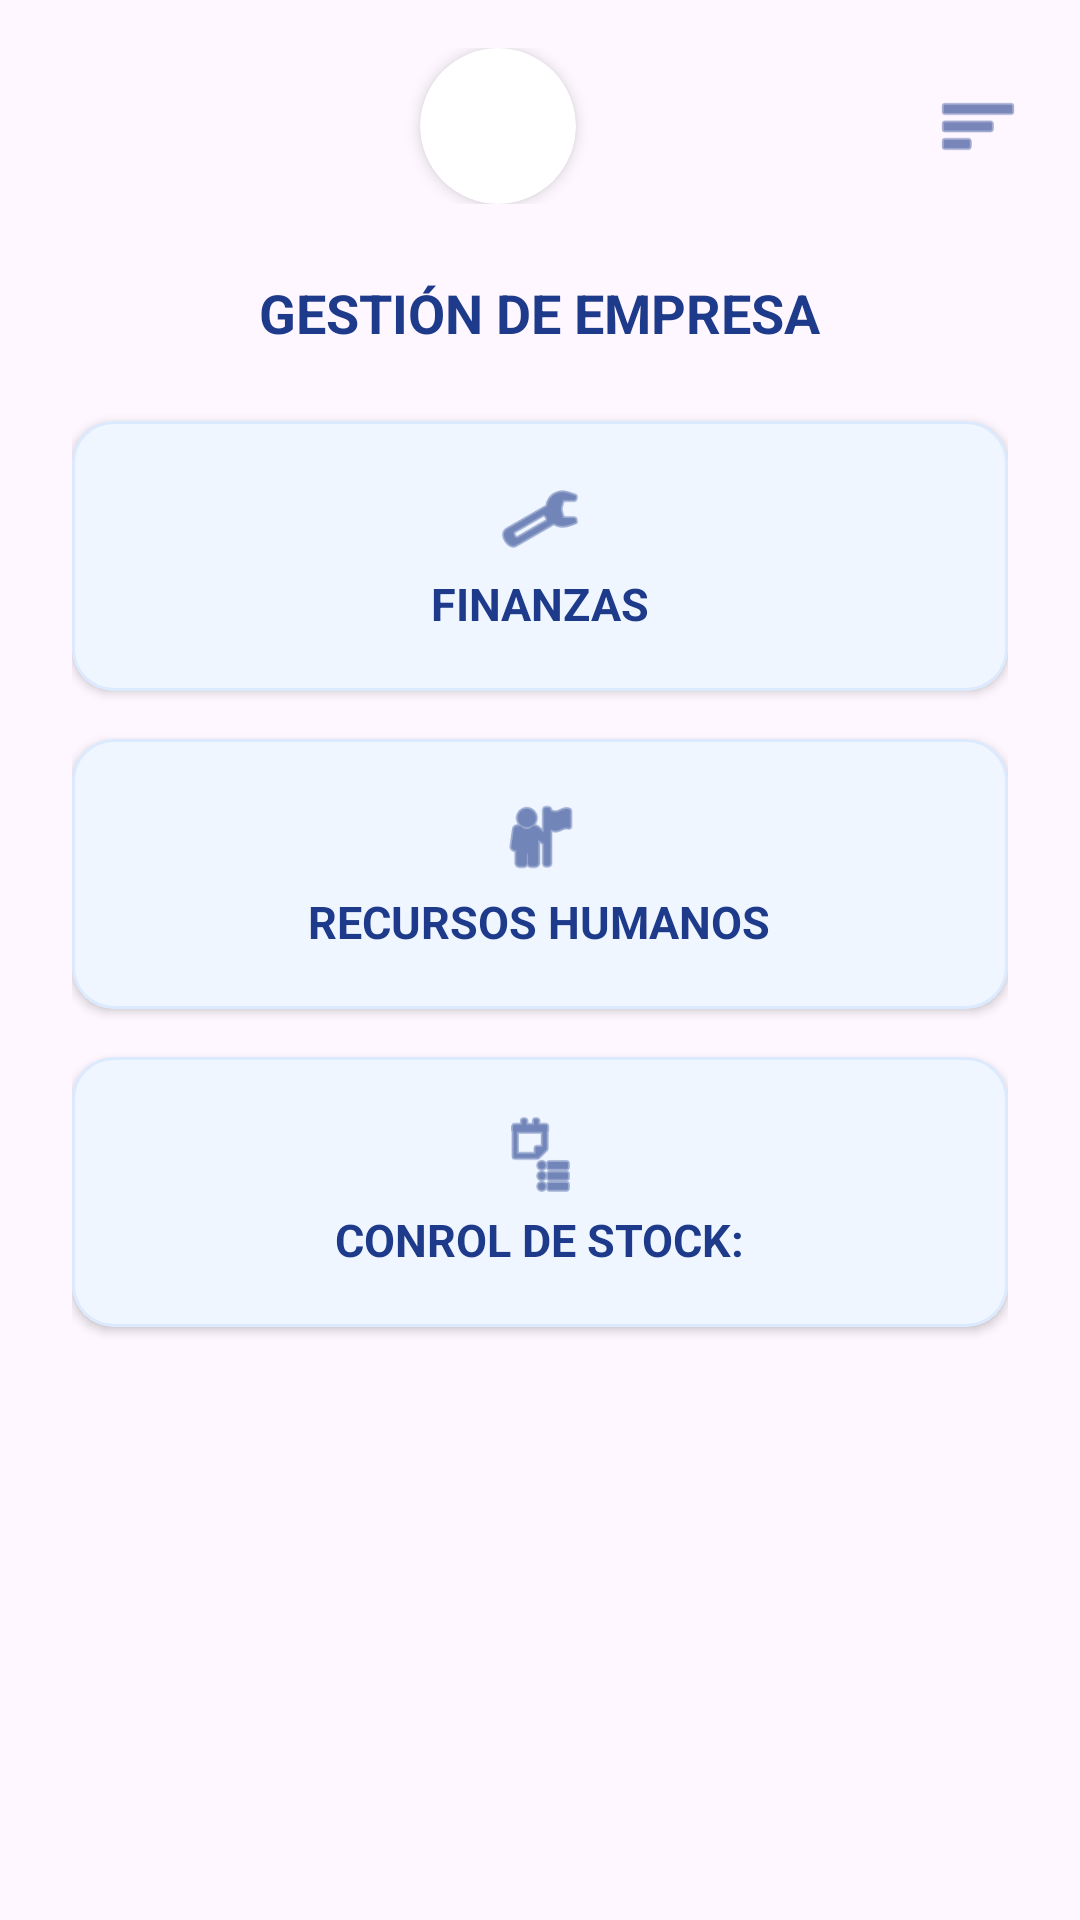

Named icons in this screenshot (1080w x 1920h) and their bounding boxes, (x1, y1, x2, y2):
Menú: (942, 103, 1014, 150)
